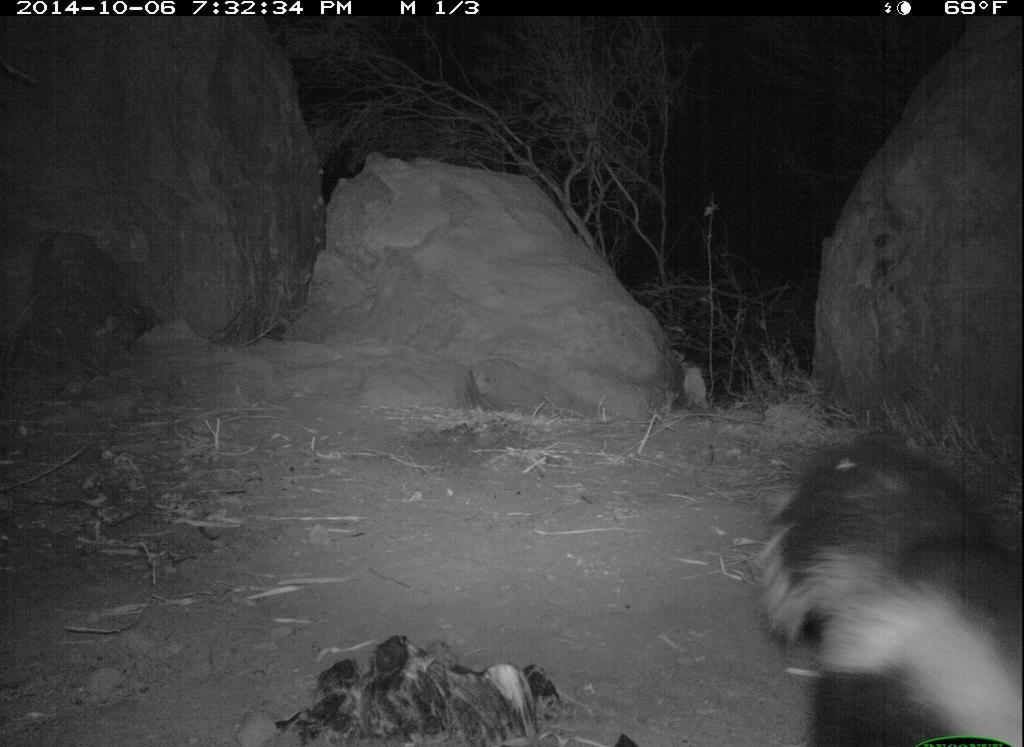skunk: (751, 466, 1012, 744)
